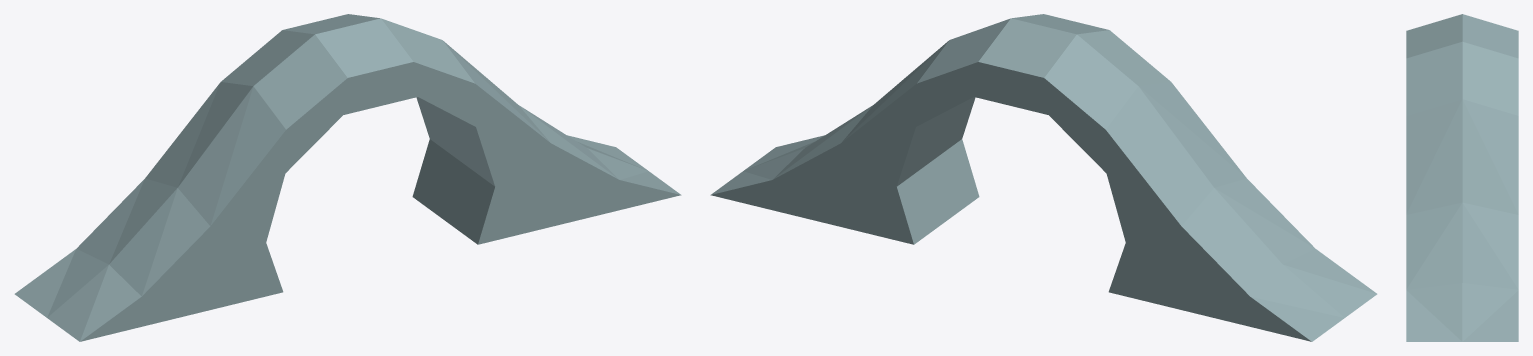
The model's file is Dandelion_Portail2.FBX.
The picture shows the model from 3 angles, left to right: view 1: azimuth 30°, elevation 25°; view 2: azimuth 150°, elevation 25°; view 3: azimuth 270°, elevation 25°; orthographic projection. The views are drawn at different scales.
Visible parts, largest first — view 1: Box001; view 2: Box001; view 3: Box001.
Boxes of the visible parts, <box> form: Box001: <box>14,14,681,341</box>; Box001: <box>710,14,1377,341</box>; Box001: <box>1406,14,1518,341</box>.
Bounding box in the file's own units: 796 × 276 × 150.
